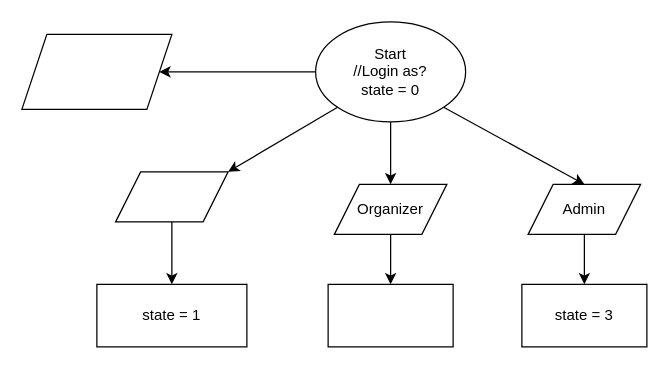
The diagram is 669 pixels wide and 369 high, and some of its shapes have lost their labels. Each missing label, with the box of its shape:
Attendee: (114, 171, 228, 222)
Exit: (21, 33, 172, 109)
state = 2: (327, 283, 453, 347)
